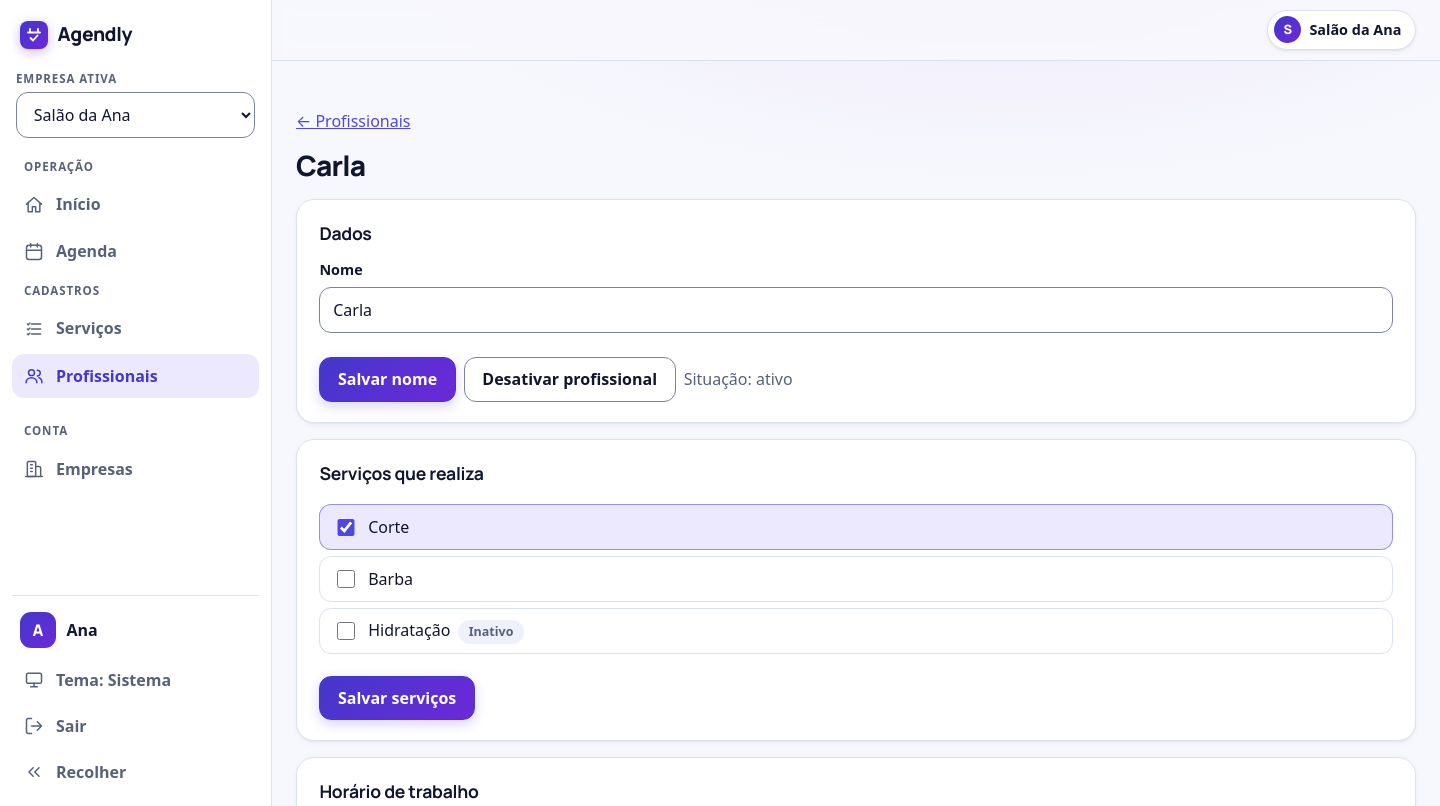
Test case: página do profissional › renomear envia o nome limpo e mostra o aviso; nome vazio não envia
Clear the field labelled "Nome" at (856, 310), box [319,287,1393,333]
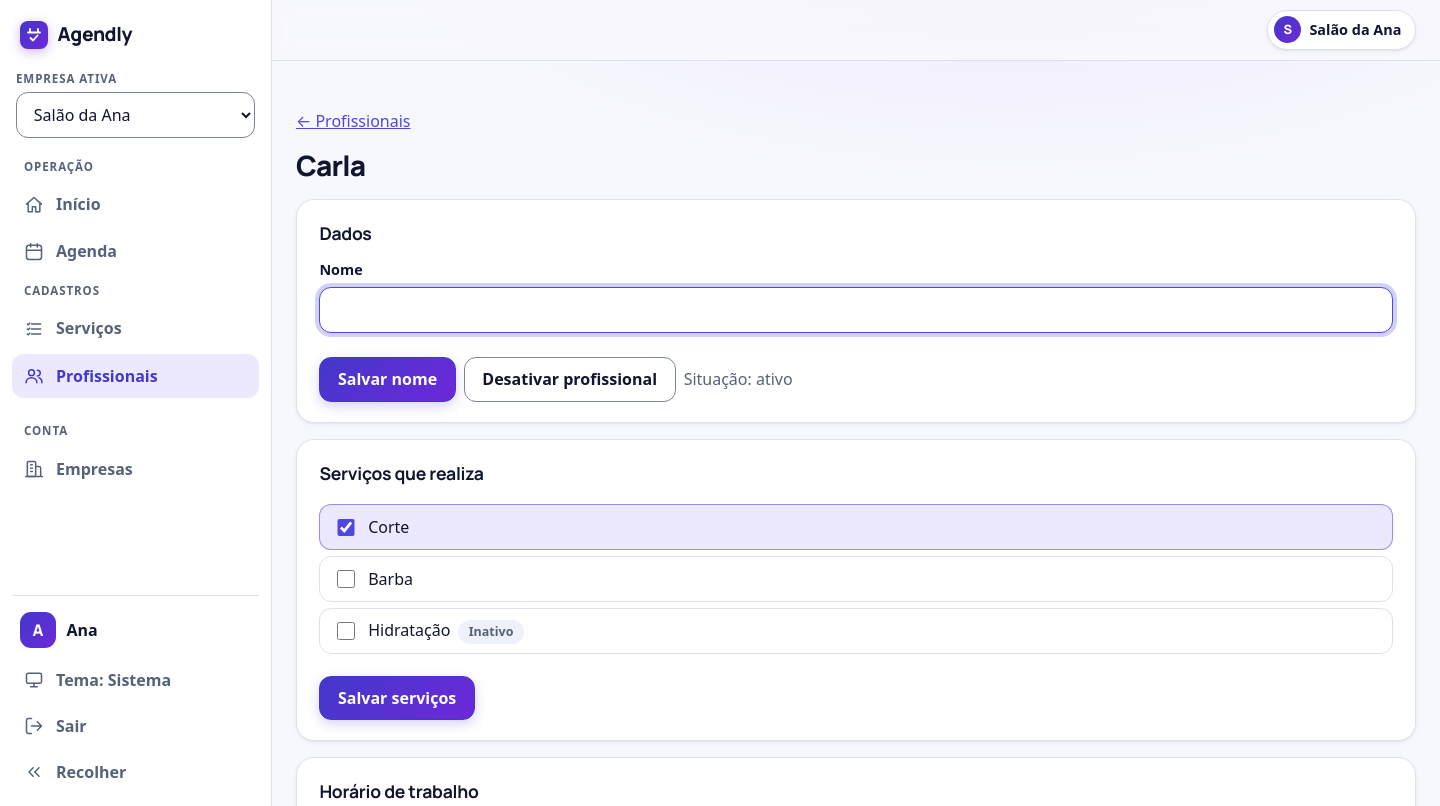
Click the button "Salvar nome" at (388, 379), box [319,357,456,402]
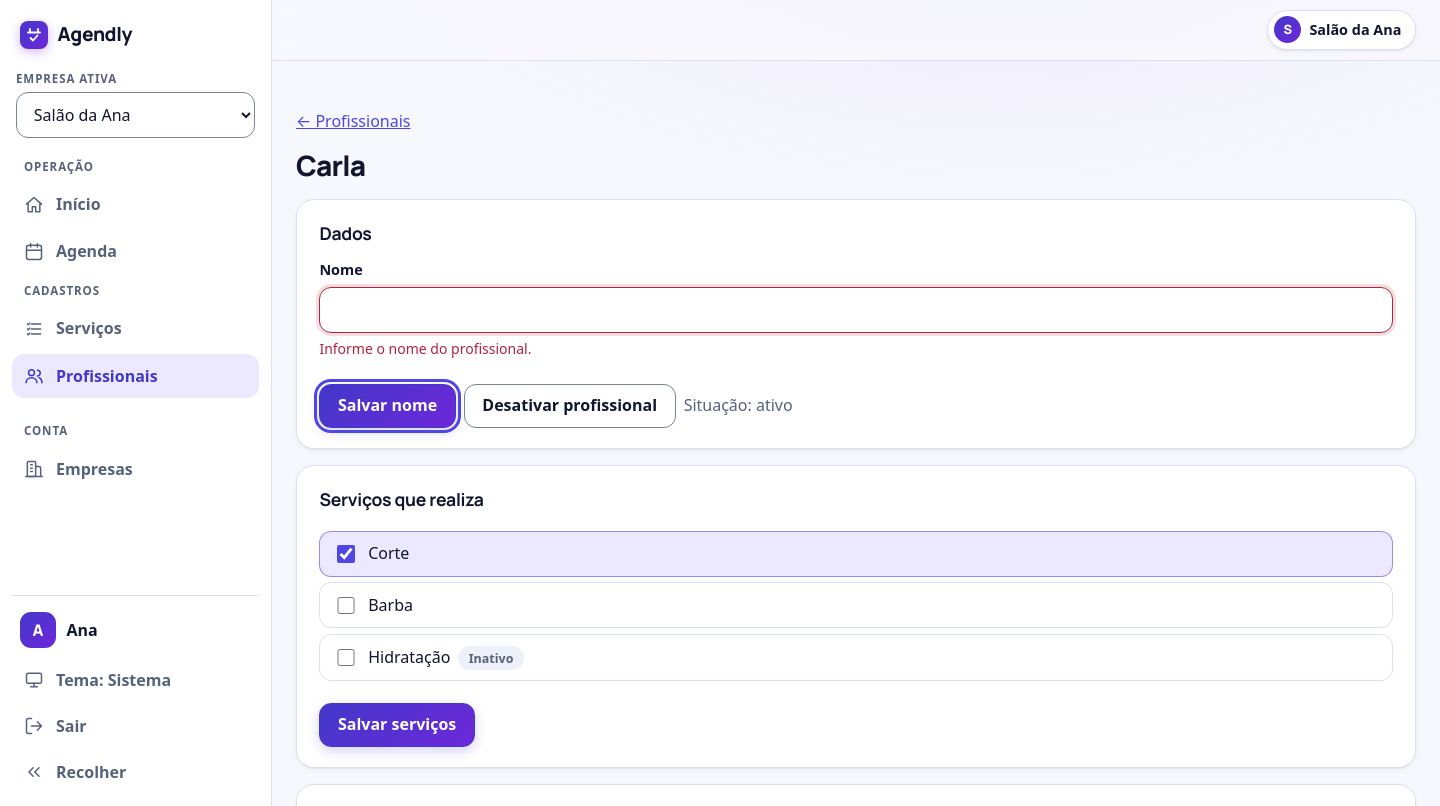
Type "  Carla Souza " into the field labelled "Nome" at (856, 310), box [319,287,1393,333]
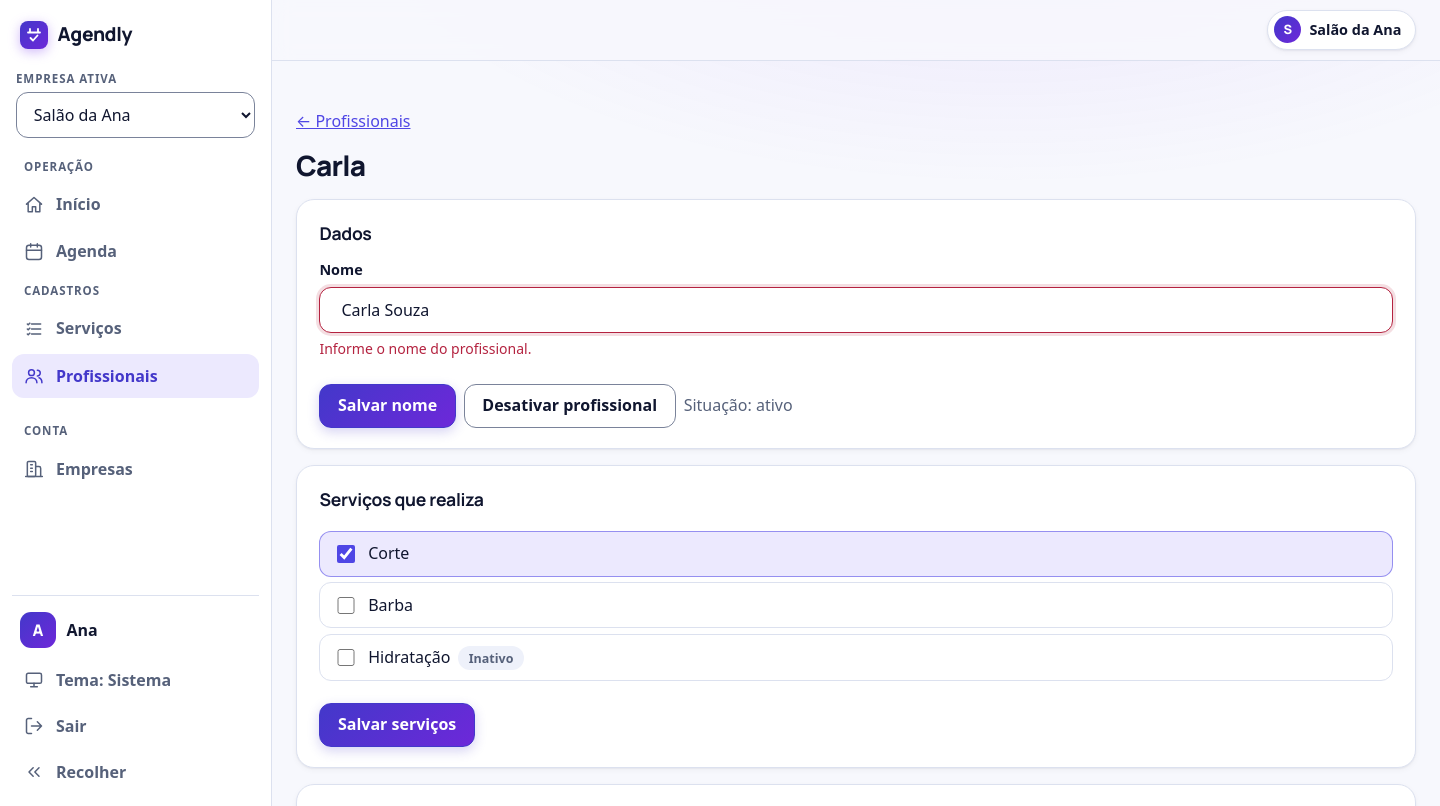
Click the button "Salvar nome" at (388, 406), box [319,384,456,428]
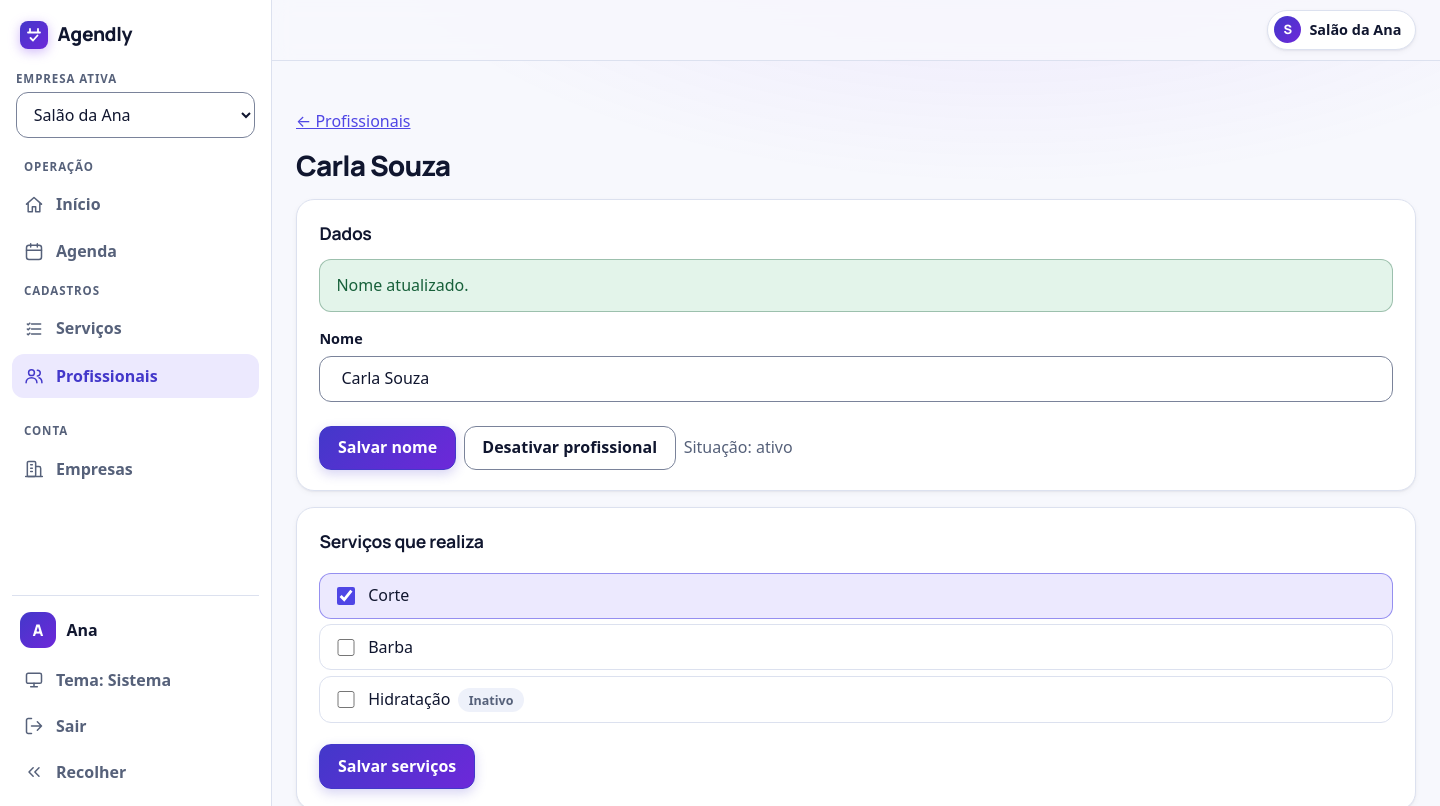
Expected: the text "Nome atualizado." is shown, [319,259,1393,312]
Expected: the heading "Carla Souza" is shown, [296,146,450,184]
